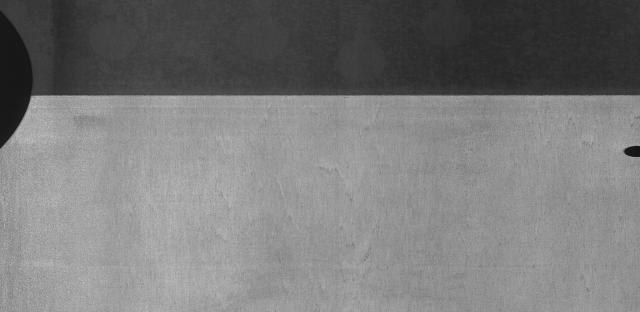punching_hole: (622, 142, 640, 161)
welding_line: (24, 85, 639, 104)
